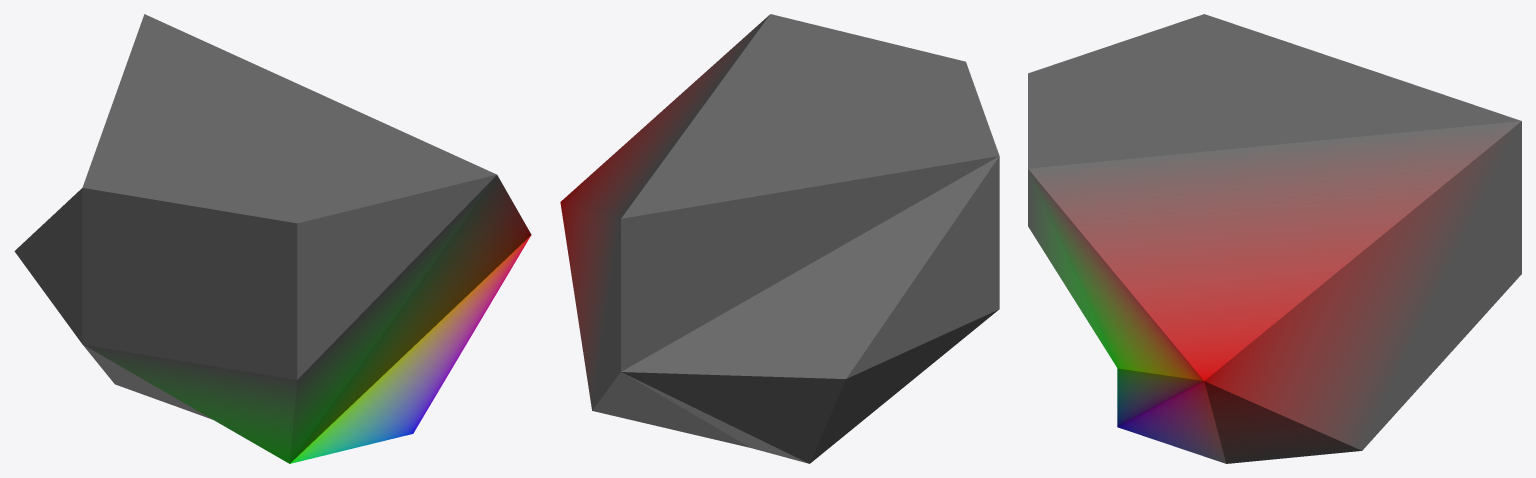
File: gate_re_cleaning_conquest_20_bis.obj
3 renders of one model, left to right at view 1: azimuth 30°, elevation 25°; view 2: azimuth 150°, elevation 25°; view 3: azimuth 270°, elevation 25°, orthographic. The views are drawn at different scales.
Size of the model in its own units: 1.85 by 1.31 by 1.81.
